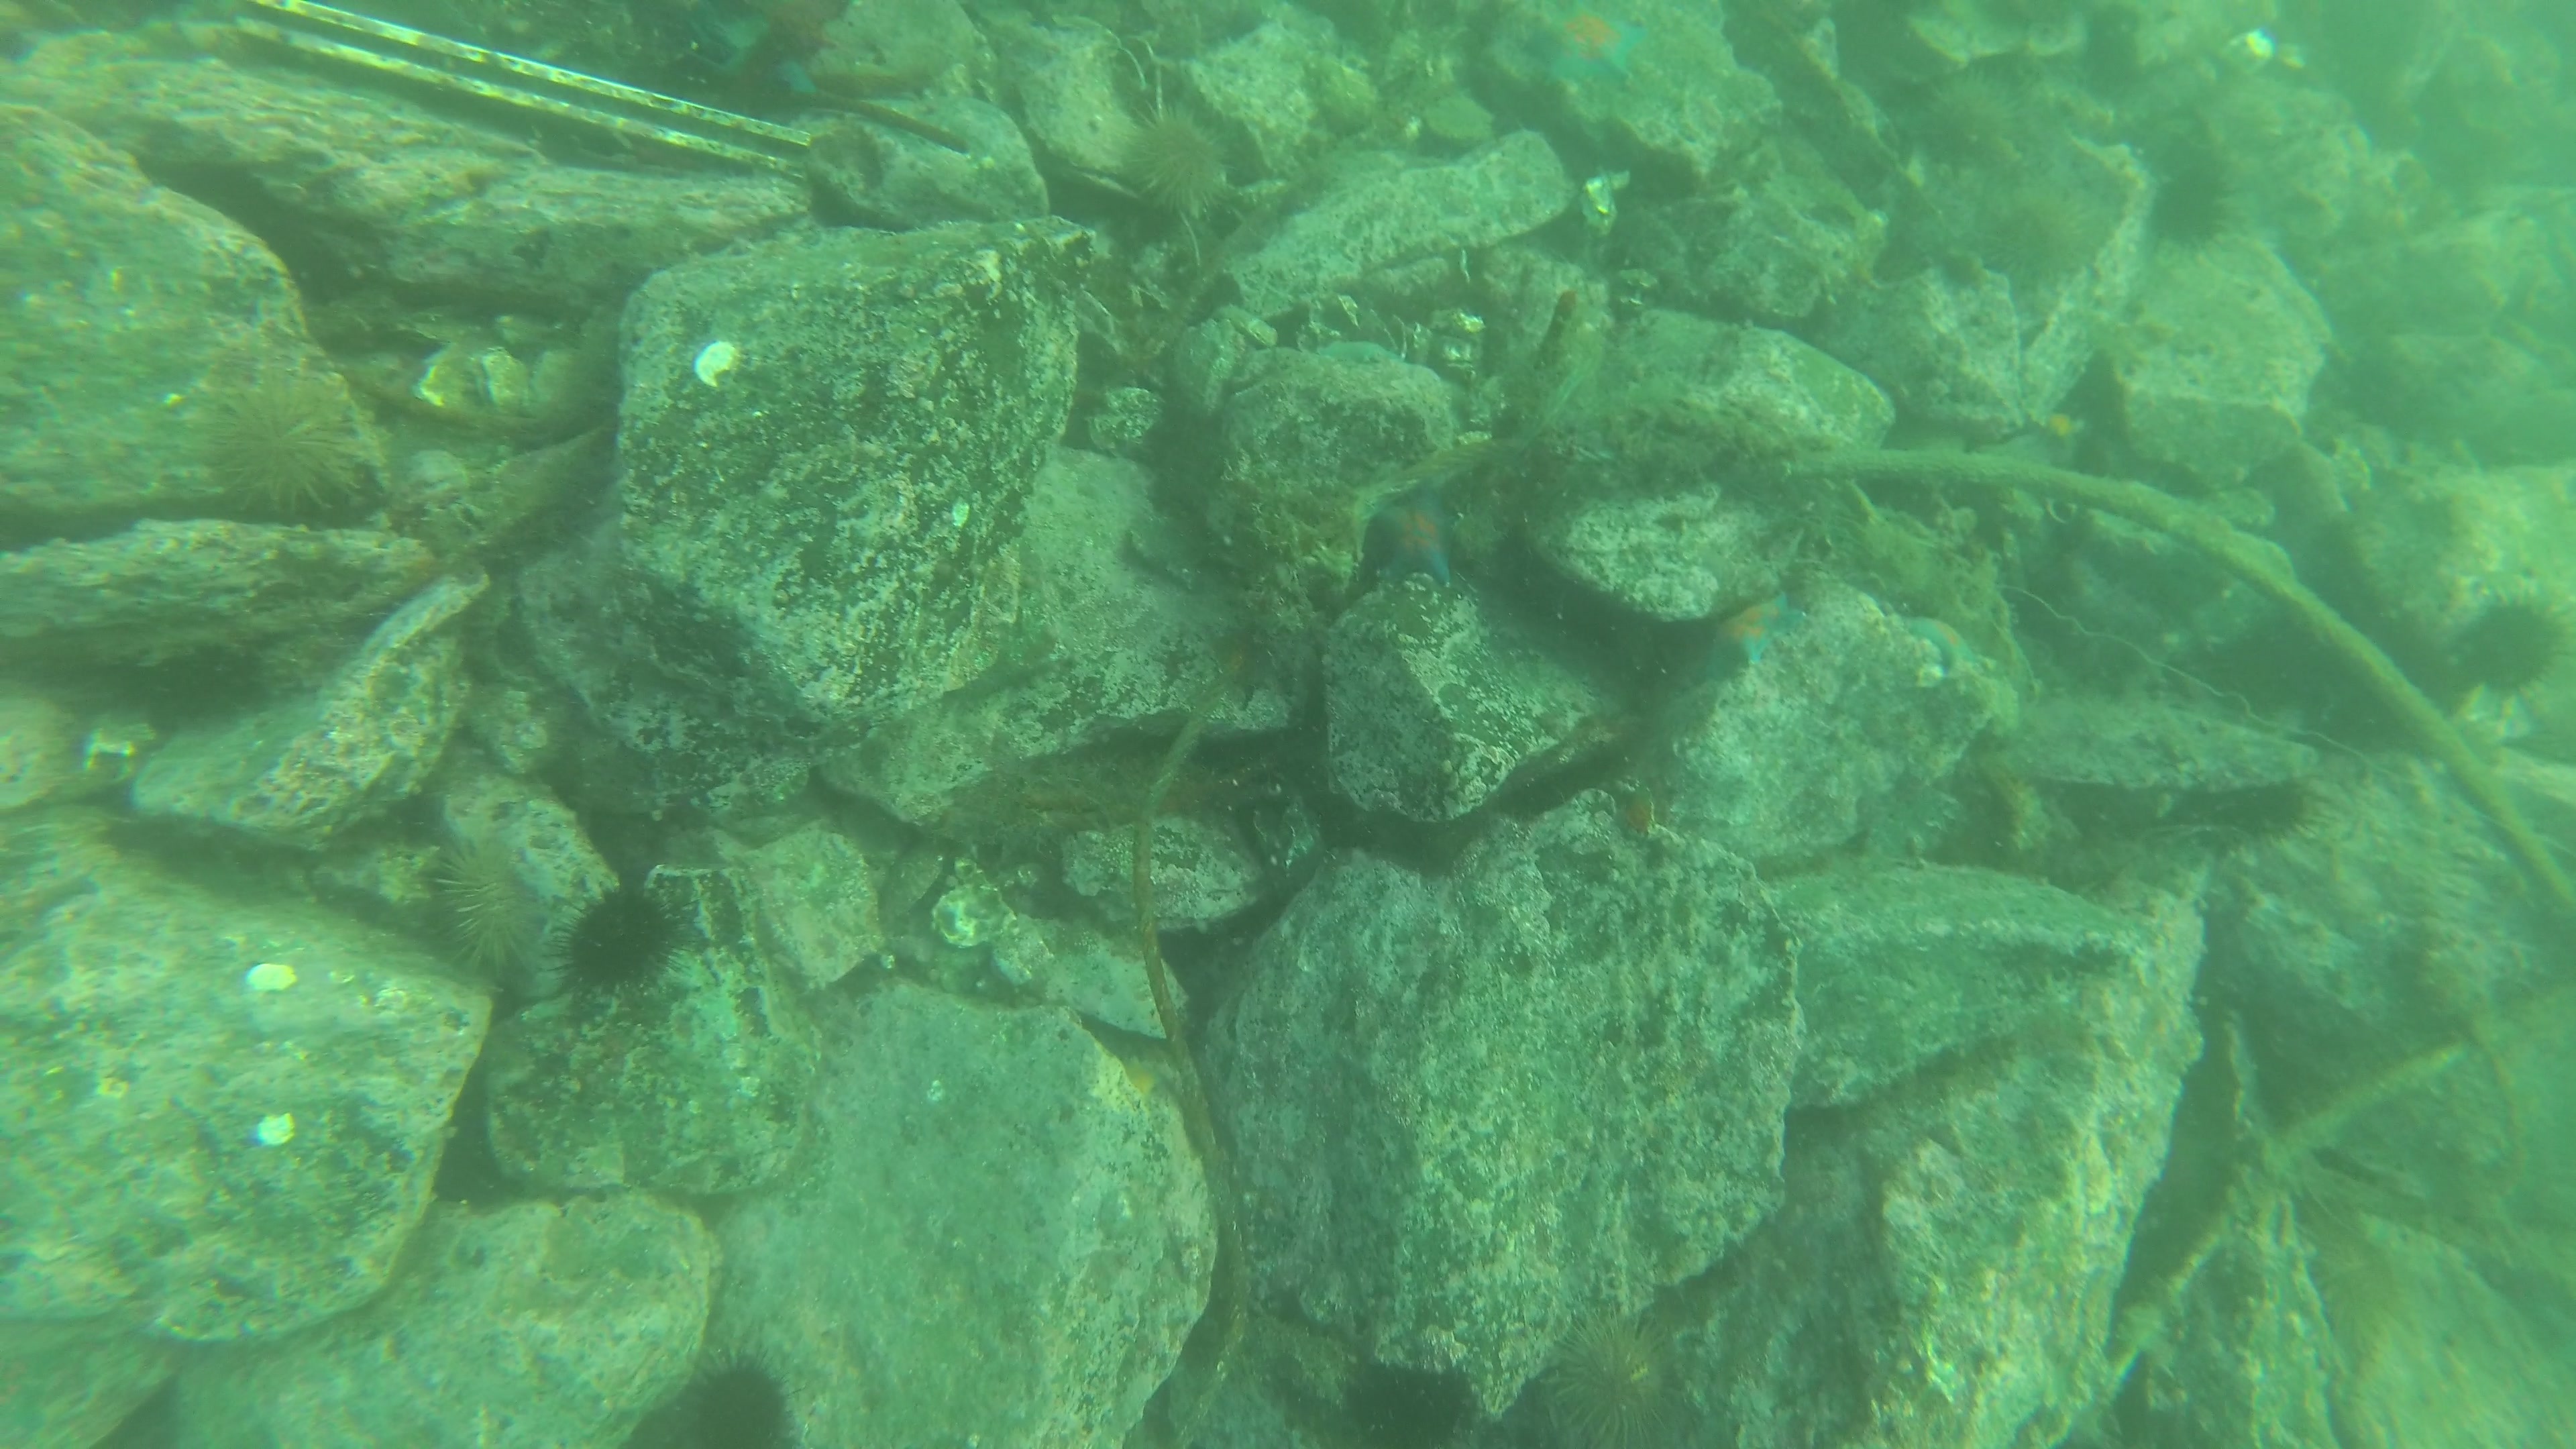echinus: (211, 373, 364, 525), (1530, 1307, 1688, 1449), (556, 860, 704, 1007), (428, 837, 550, 993), (1327, 1352, 1483, 1449), (1123, 108, 1238, 230), (669, 1345, 801, 1449), (2457, 591, 2572, 702), (1920, 67, 2013, 163), (2005, 196, 2095, 283), (2229, 770, 2327, 847), (2150, 166, 2233, 251)
starfish: (1525, 0, 1652, 97), (1698, 584, 1810, 685), (708, 0, 830, 87), (1371, 479, 1468, 582), (1904, 605, 1982, 679)
